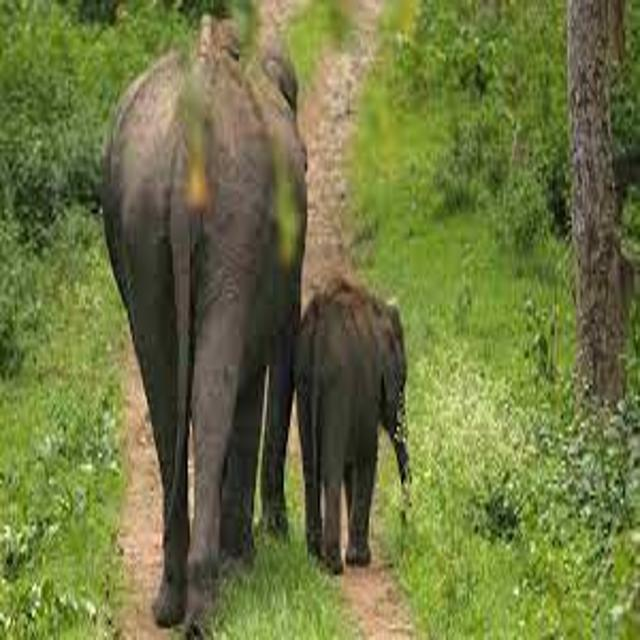elephant: (47, 16, 348, 637), (239, 259, 448, 600)
